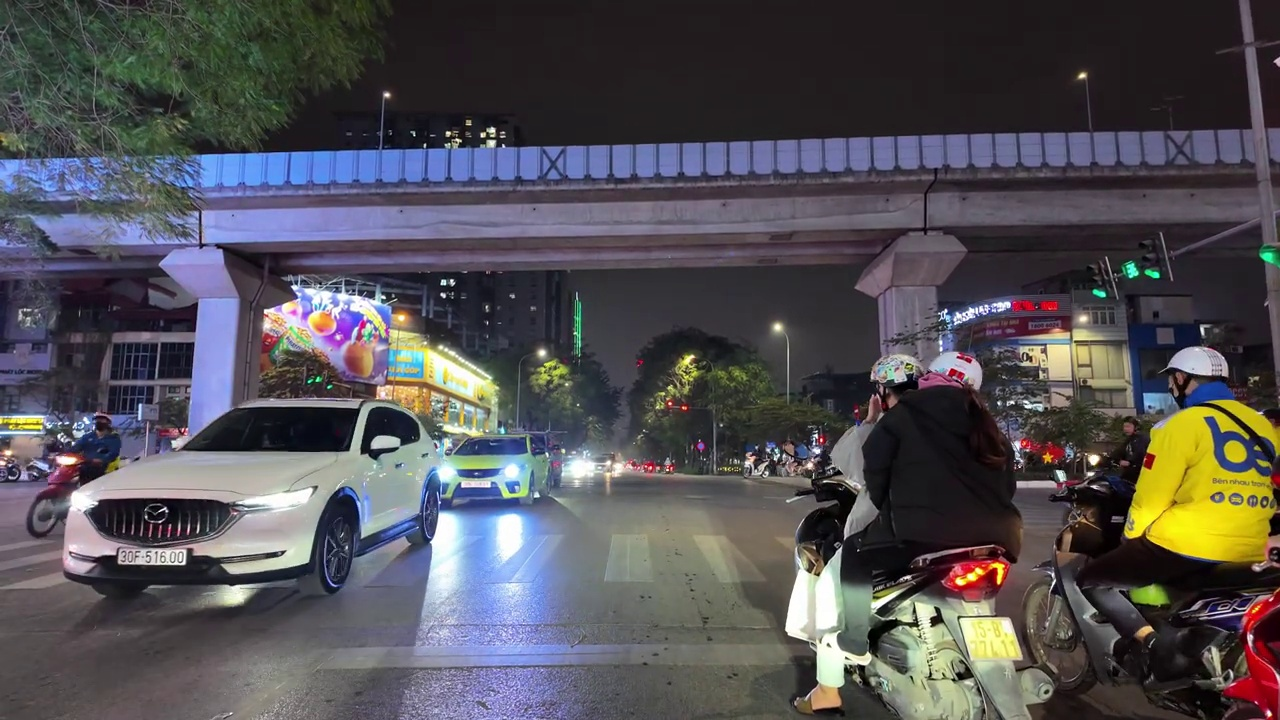acesa: (768, 318, 789, 340)
